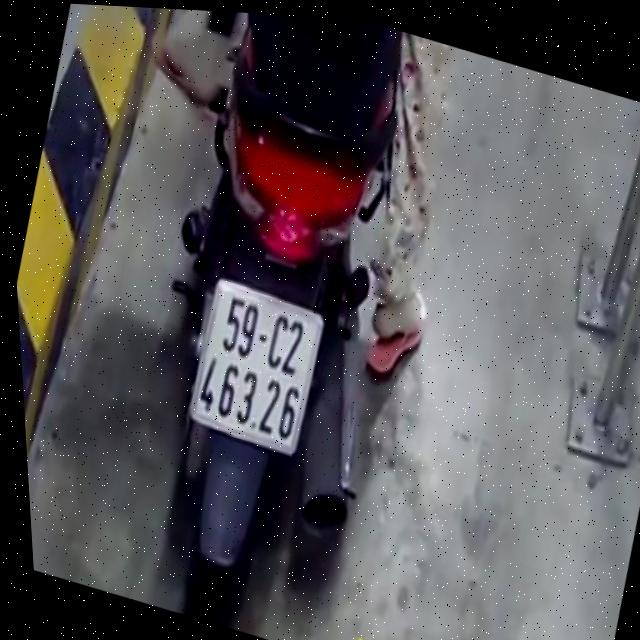motorcycle: (74, 4, 485, 640)
plate: (170, 267, 335, 461)
